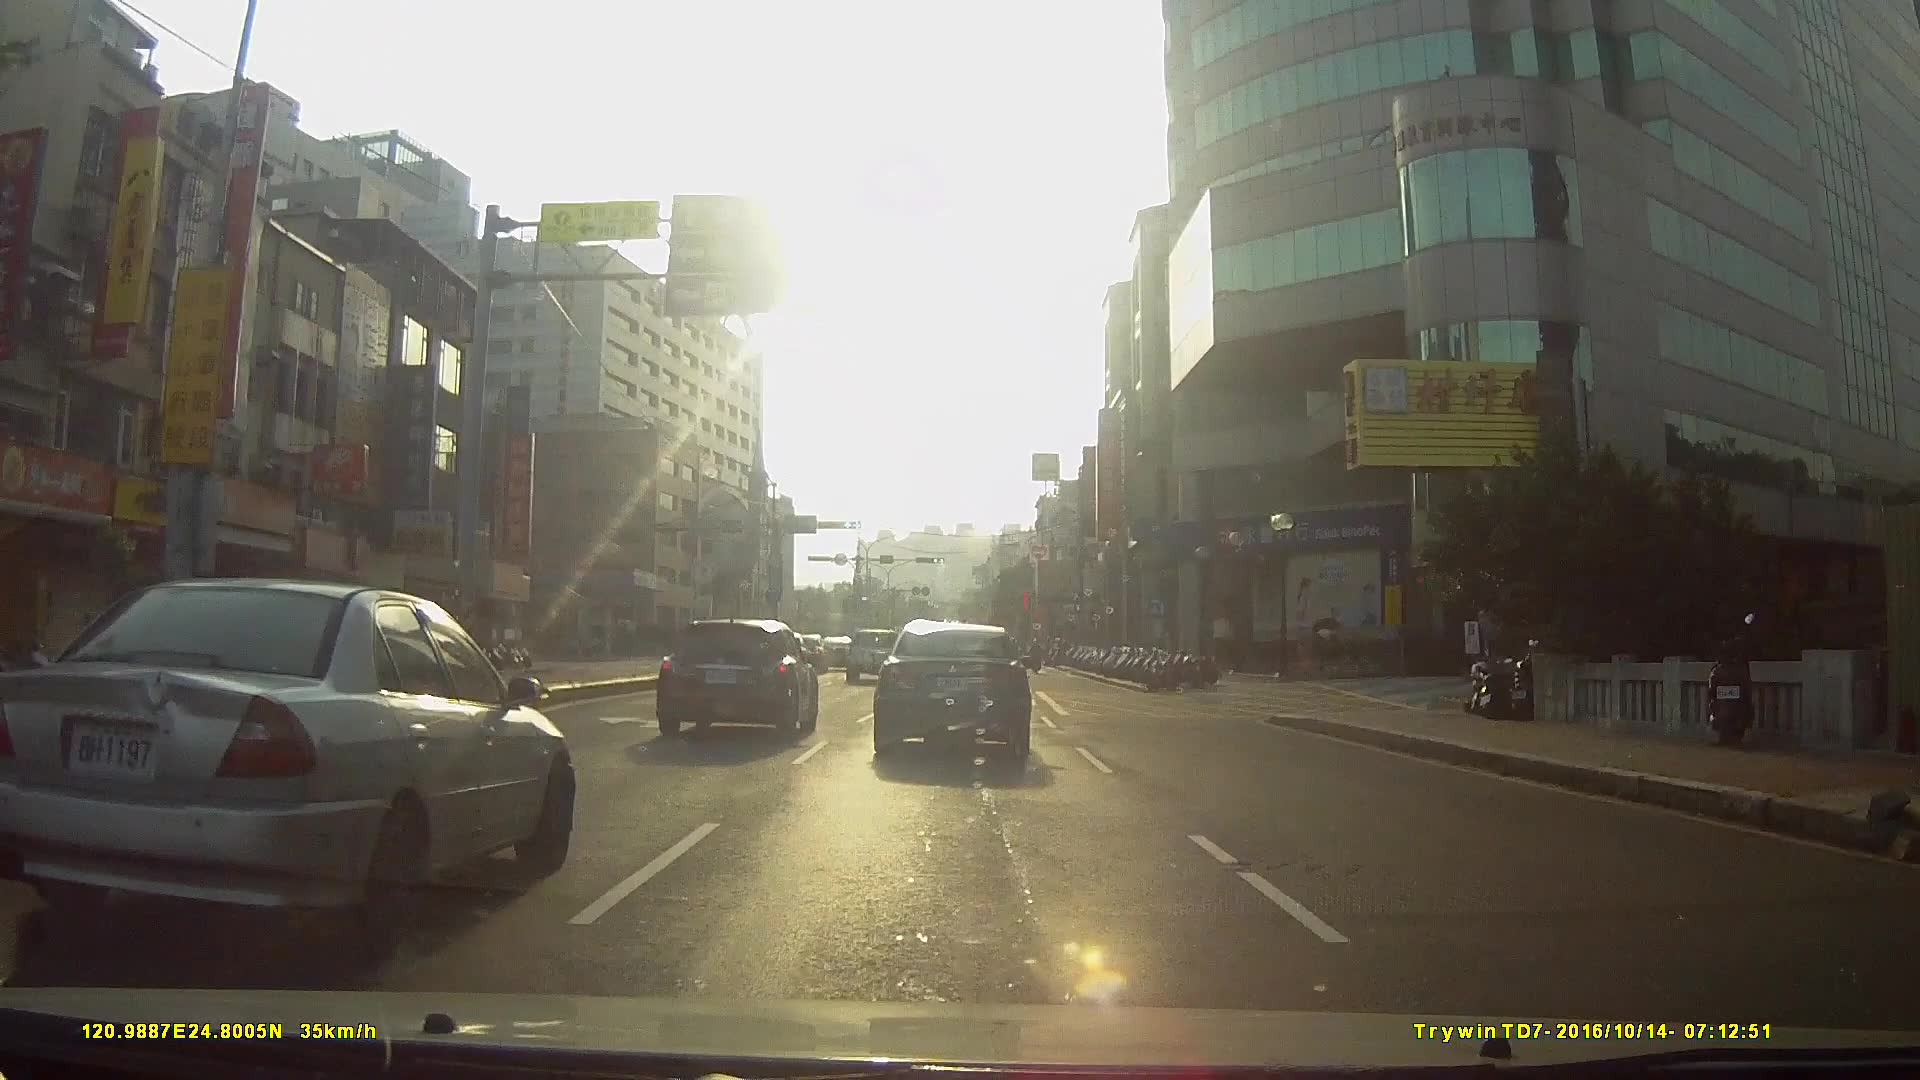vehicle: (0, 572, 572, 956), (872, 616, 1031, 764), (651, 611, 818, 738), (844, 624, 905, 682), (814, 633, 856, 671)
